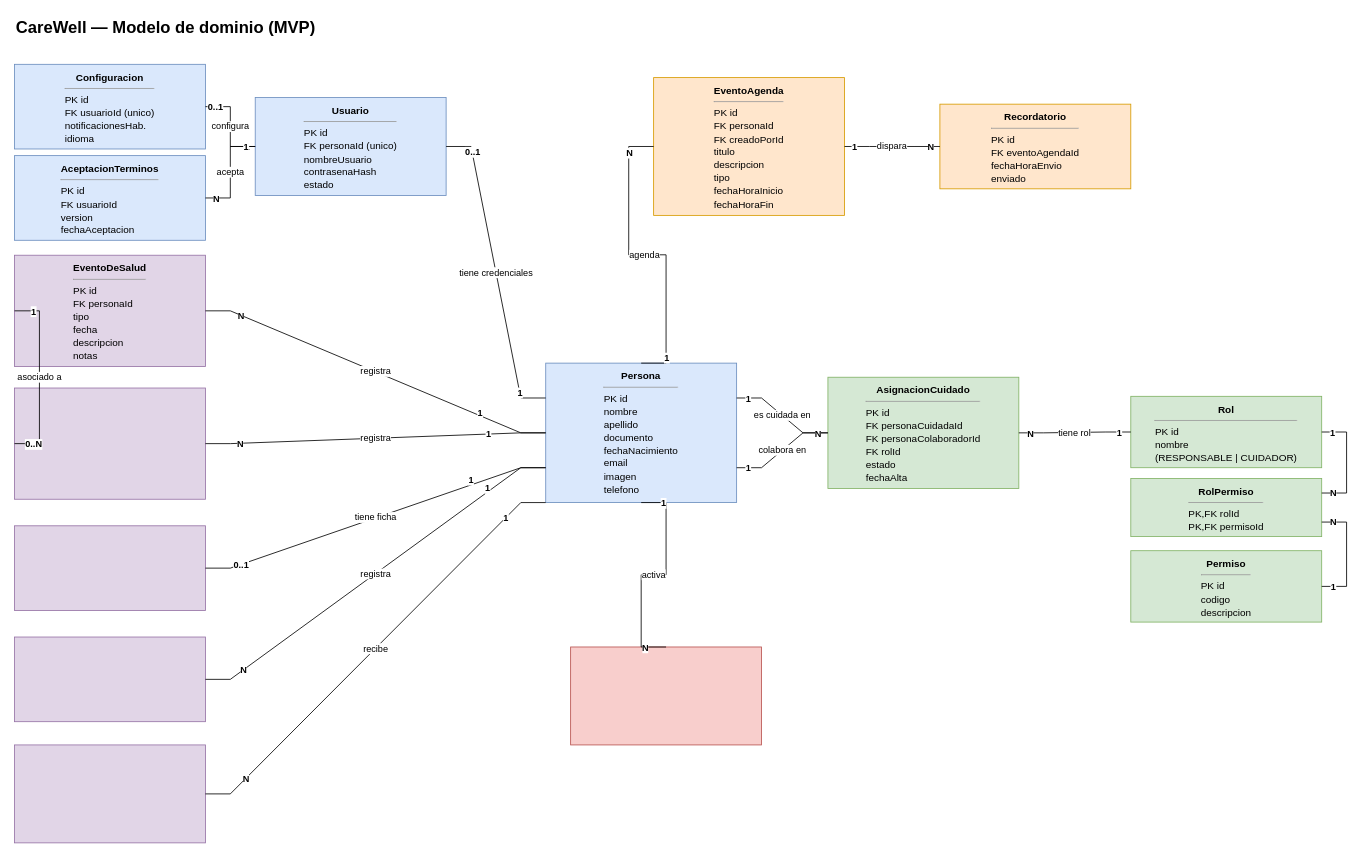
Some shapes in this 1362 by 857 pixel diagram are drawn without their labels. Here are the shapes that lost their labels. From the top down, the centre of each, then its label:
pixel 109 443: EstadoDeAnimo PK id FK personaId FK eventoDeSaludId? fecha estado observaciones
pixel 109 567: FichaSalud PK id FK personaId (unico) antecedentes estudios
pixel 109 679: HabitoDeVida PK id FK personaId tipo descripcion
pixel 666 695: Emergencia PK id FK personaId fechaHora atendida descripcion
pixel 109 793: RecomendacionMedica PK id FK personaId descripcion fecha profesional
